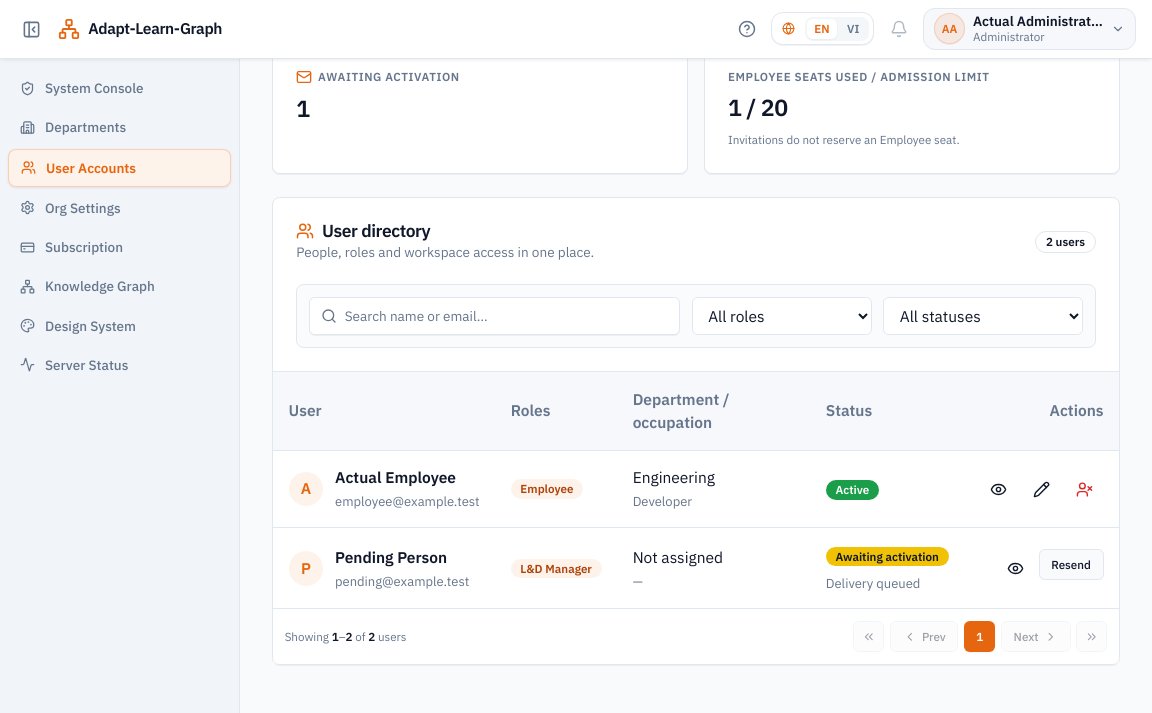
Administrator page ownership › edits allowed fields with revision/CSRF and leaves activated email read-only
(page scrolled)
Click the button named "Edit": [1042, 489] box top-left (1022, 470), bottom-right (1061, 508)
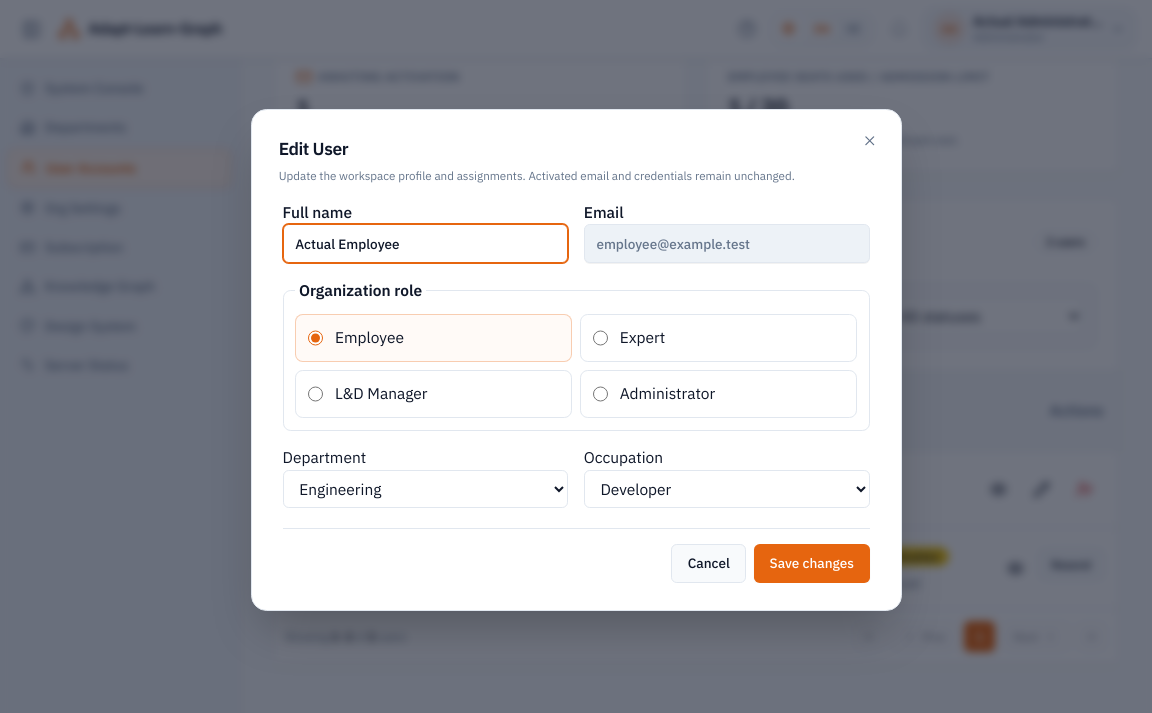
Replace the text in the field labelled "Full name" with "Updated Employee": [425, 244] box top-left (282, 224), bottom-right (568, 263)
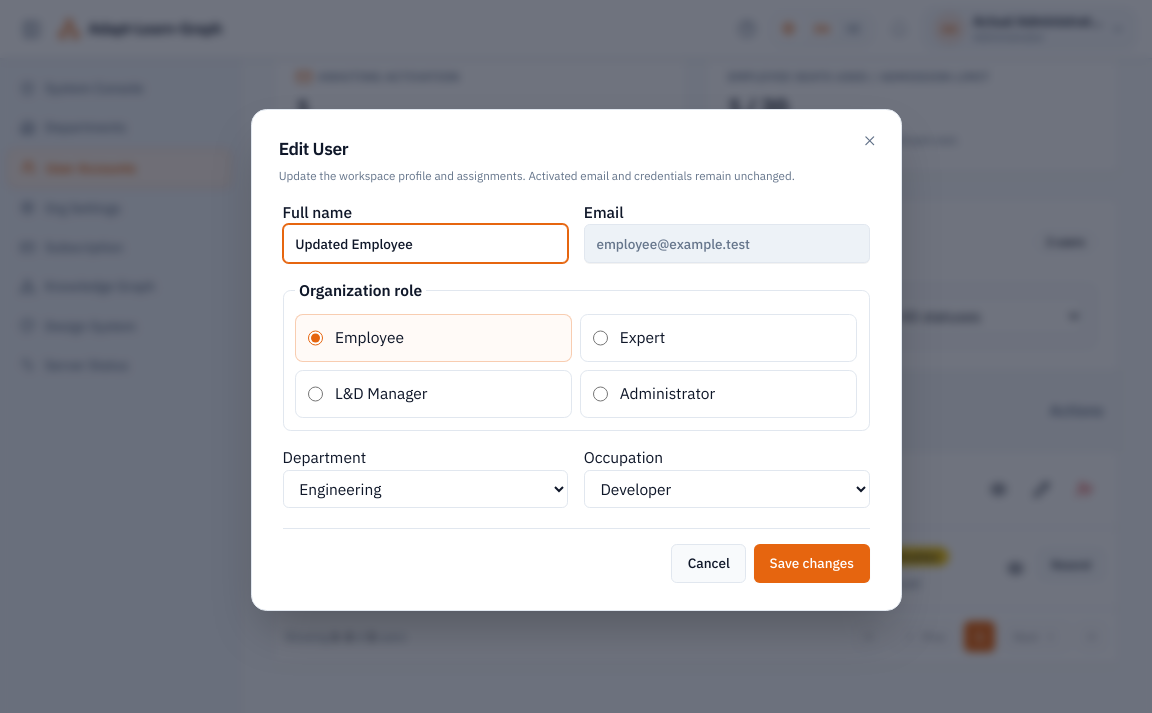
Click the button "Save changes": [812, 564] box top-left (754, 544), bottom-right (870, 583)
(page scrolled)
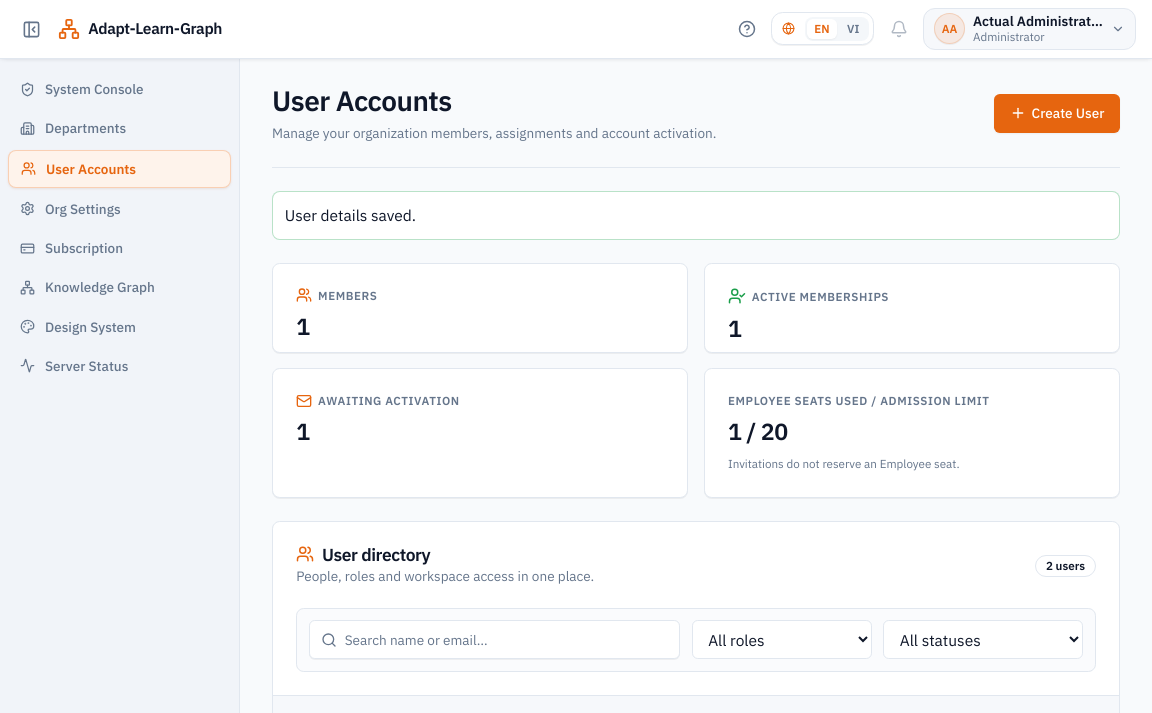
Check: the text "User details saved." is shown, box top-left (272, 191), bottom-right (1120, 240)
